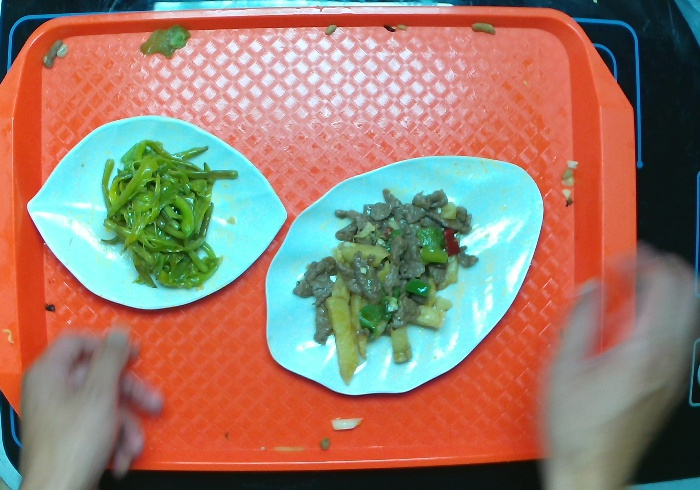RJxy-Bai_Ye_Pan: (263, 153, 545, 398)
RJxy-Da_Du_Pan: (24, 112, 289, 312)
